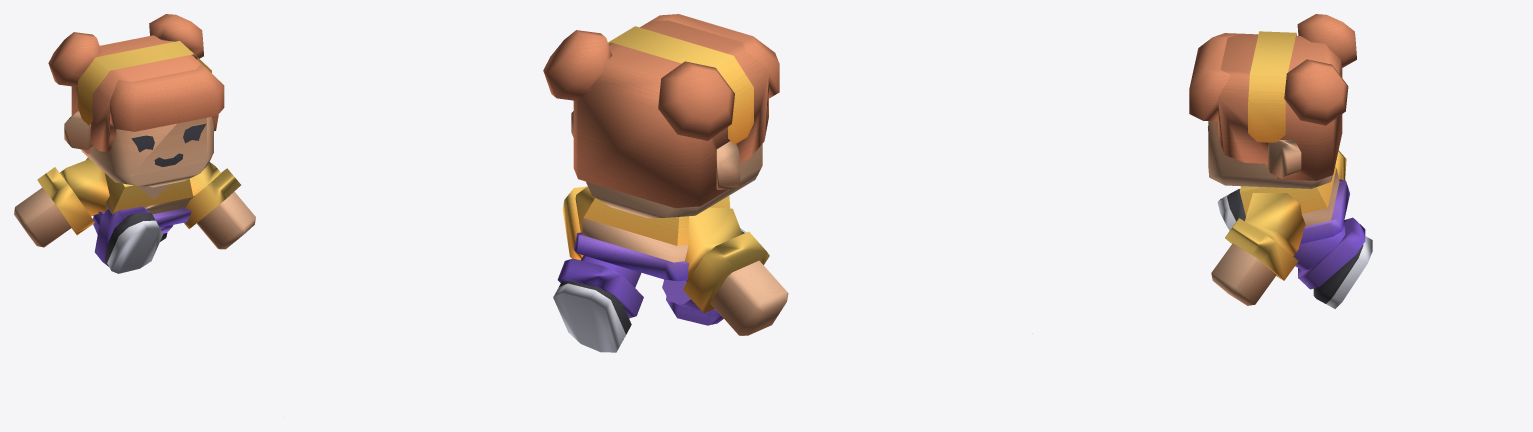
File: crowdB_sprint_5.glb
The picture shows the model from 3 angles, left to right: view 1: azimuth 30°, elevation 25°; view 2: azimuth 150°, elevation 25°; view 3: azimuth 270°, elevation 25°; orthographic projection. The views are drawn at different scales.
Parts seen in each view (by area): view 1: crowdB-sprint-5; view 2: crowdB-sprint-5; view 3: crowdB-sprint-5.
Part boxes in pixels (bbox=[...]): crowdB-sprint-5: bbox=[14, 14, 255, 273]; crowdB-sprint-5: bbox=[543, 14, 788, 352]; crowdB-sprint-5: bbox=[1189, 14, 1372, 308].
Bounding box in the file's own units: 1.2 × 0.8186 × 1.2.
Materials: 1 (1 with a texture image).
